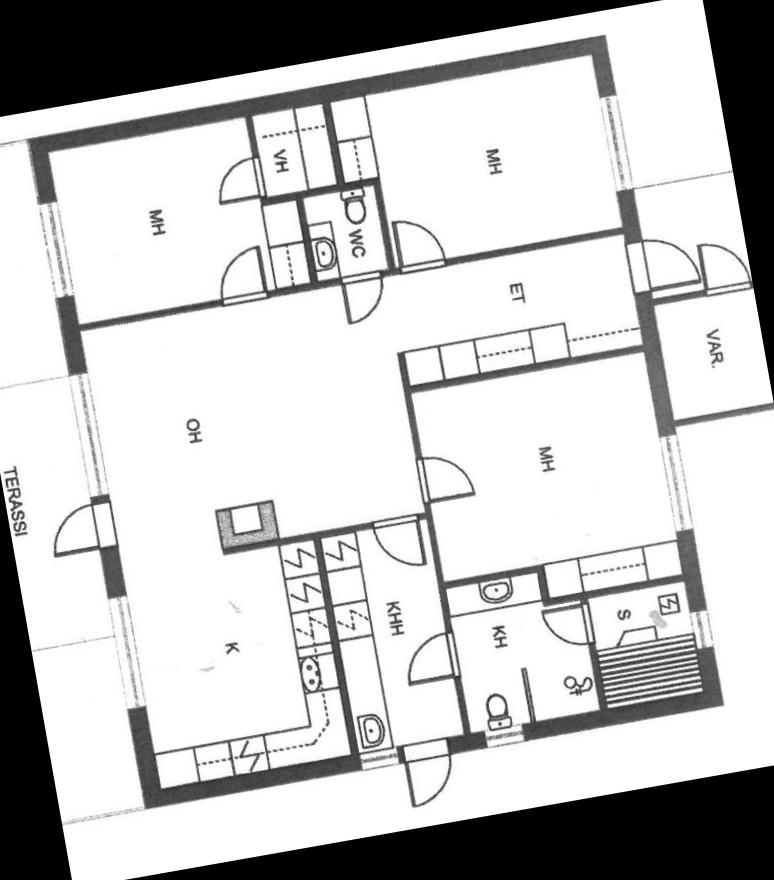door: (622, 228, 704, 299), (395, 728, 462, 812), (406, 443, 480, 511), (42, 496, 120, 560), (367, 504, 431, 577), (397, 624, 465, 688), (692, 229, 754, 299), (210, 240, 273, 308), (387, 210, 447, 278), (334, 263, 394, 327), (209, 149, 270, 208), (538, 598, 595, 656)
window: (60, 363, 115, 506), (101, 586, 155, 722), (30, 189, 83, 313), (590, 81, 640, 201), (652, 427, 699, 539), (473, 718, 532, 758), (682, 600, 720, 660), (349, 742, 406, 776)
